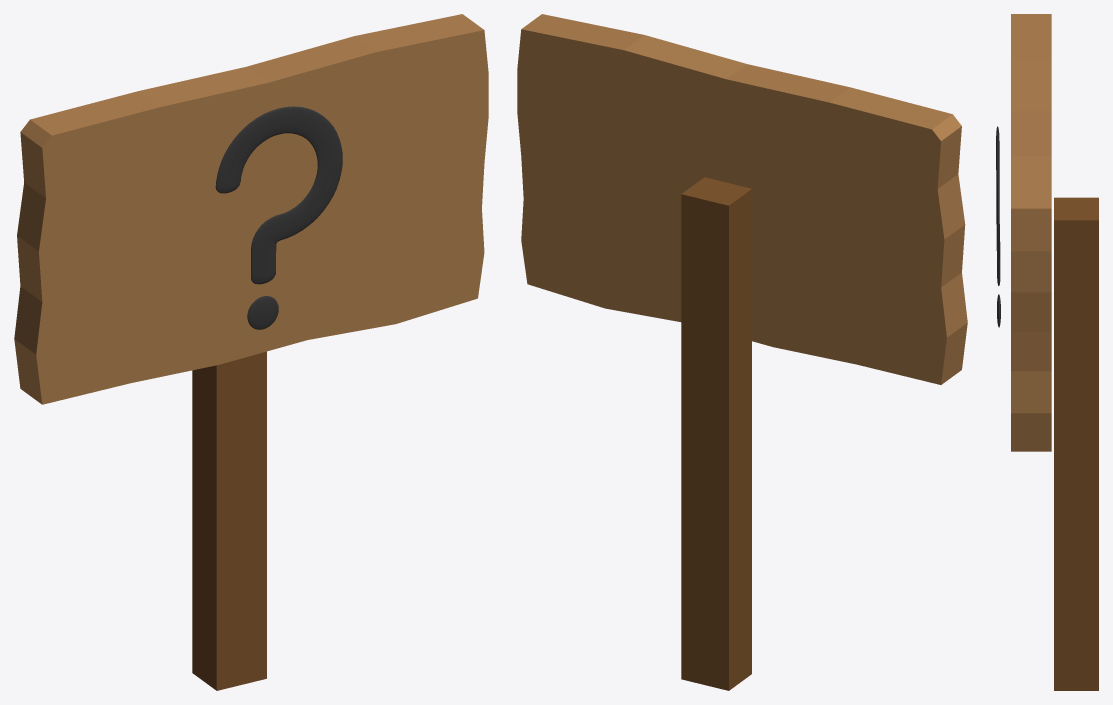
Rendered from Sign.glb.
3 views of the same model, side by side, from view 1: azimuth 30°, elevation 25°; view 2: azimuth 150°, elevation 25°; view 3: azimuth 270°, elevation 25° (orthographic). The views are drawn at different scales.
Parts seen in each view (by area): view 1: Sign; view 2: Sign; view 3: Sign.
Part boxes in pixels (x1,y1,x2,y2): Sign: (14, 14, 488, 690); Sign: (517, 14, 967, 690); Sign: (996, 14, 1098, 690).
Size of the model in its own units: 0.9104 by 1.2 by 0.1944.
